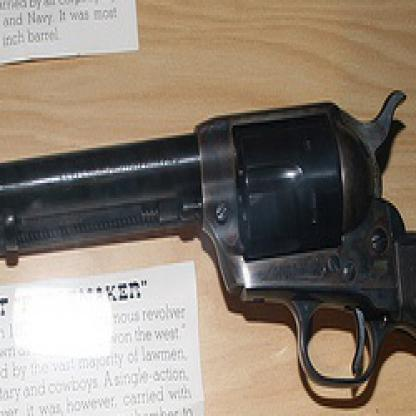gun: (0, 87, 415, 414)
